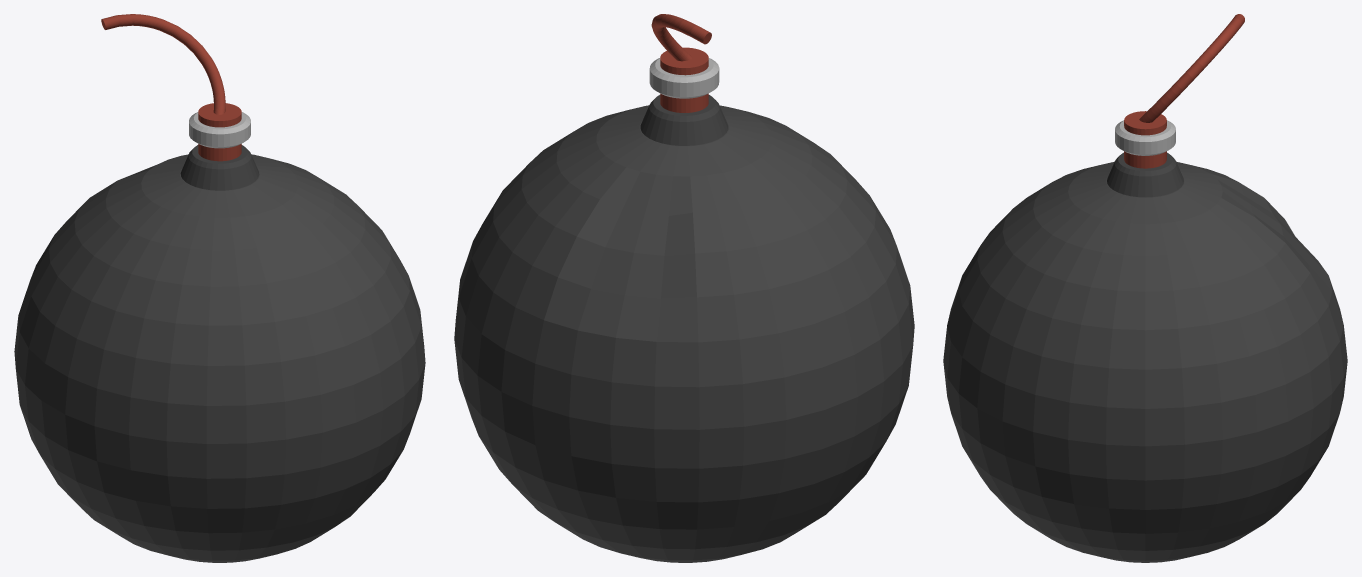
File: Bomb.fbx
The picture shows the model from 3 angles, left to right: view 1: azimuth 30°, elevation 25°; view 2: azimuth 150°, elevation 25°; view 3: azimuth 270°, elevation 25°; orthographic projection. The views are drawn at different scales.
Visible parts, largest first — view 1: Joined Bomb; view 2: Joined Bomb; view 3: Joined Bomb.
Part boxes in pixels (x1=…): Joined Bomb: x1=14, y1=14, x2=425, y2=562; Joined Bomb: x1=454, y1=14, x2=914, y2=562; Joined Bomb: x1=943, y1=14, x2=1347, y2=562.
Size of the model in its own units: 108 by 148 by 108.
